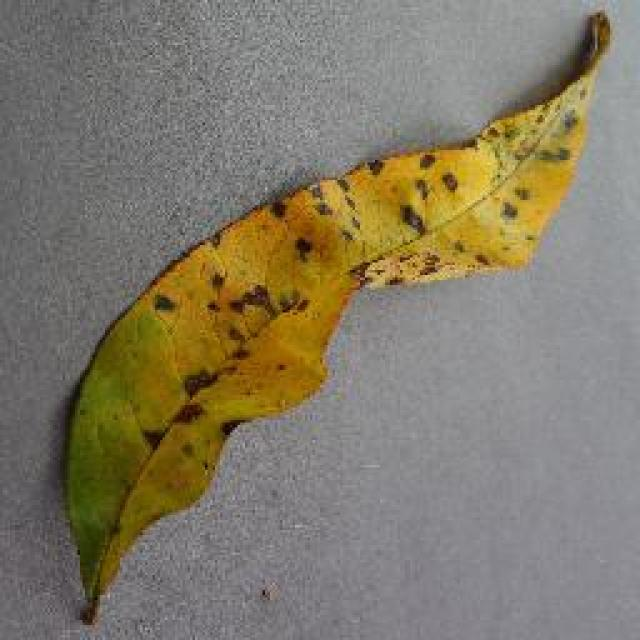Peach_Bacterial_Spot: (244, 124, 478, 338)
